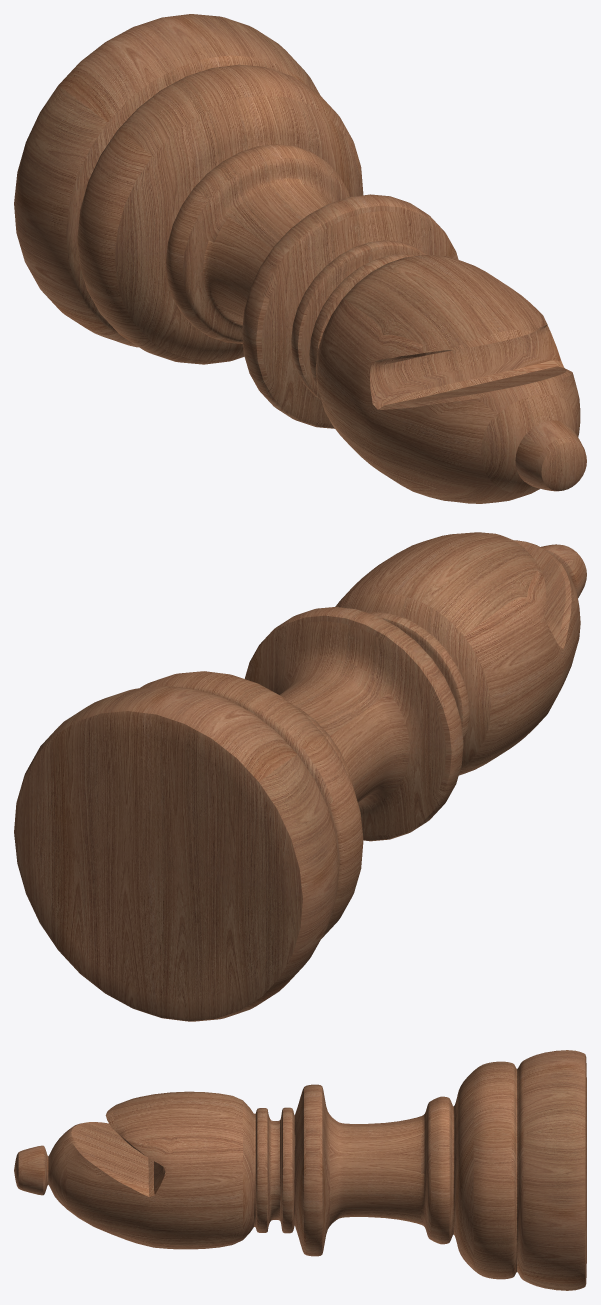
File: bishop.obj
3 views of the same model, one above another, from view 1: azimuth 30°, elevation 25°; view 2: azimuth 150°, elevation 25°; view 3: azimuth 270°, elevation 25° (orthographic). The views are drawn at different scales.
Visible parts, largest first — view 1: Plane.011_Plane.005; view 2: Plane.011_Plane.005; view 3: Plane.011_Plane.005.
Boxes of the visible parts, bbox=[...] form: Plane.011_Plane.005: bbox=[14, 14, 586, 503]; Plane.011_Plane.005: bbox=[14, 532, 586, 1021]; Plane.011_Plane.005: bbox=[14, 1050, 586, 1290].
Size of the model in its own units: 1.05 by 1.05 by 2.48.
